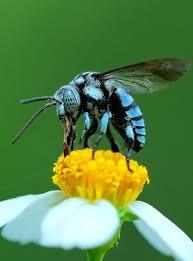Thyreus: (18, 56, 179, 171)
